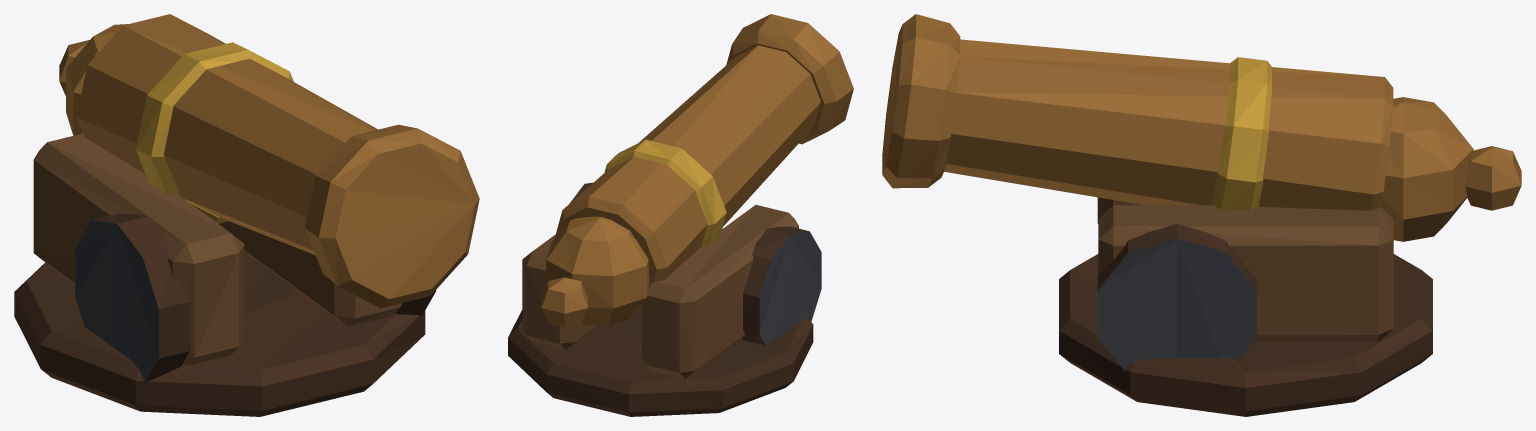
The model's file is cannon_head.glb.
3 views of the same model, side by side, from view 1: azimuth 30°, elevation 25°; view 2: azimuth 150°, elevation 25°; view 3: azimuth 270°, elevation 25° (orthographic). The views are drawn at different scales.
Parts seen in each view (by area): view 1: cannon_head; view 2: cannon_head; view 3: cannon_head.
Part boxes in pixels (bbox=[...]): cannon_head: bbox=[14, 14, 479, 416]; cannon_head: bbox=[508, 14, 853, 416]; cannon_head: bbox=[882, 14, 1521, 416].
Size of the model in its own units: 0.4 by 0.3514 by 0.6501.
